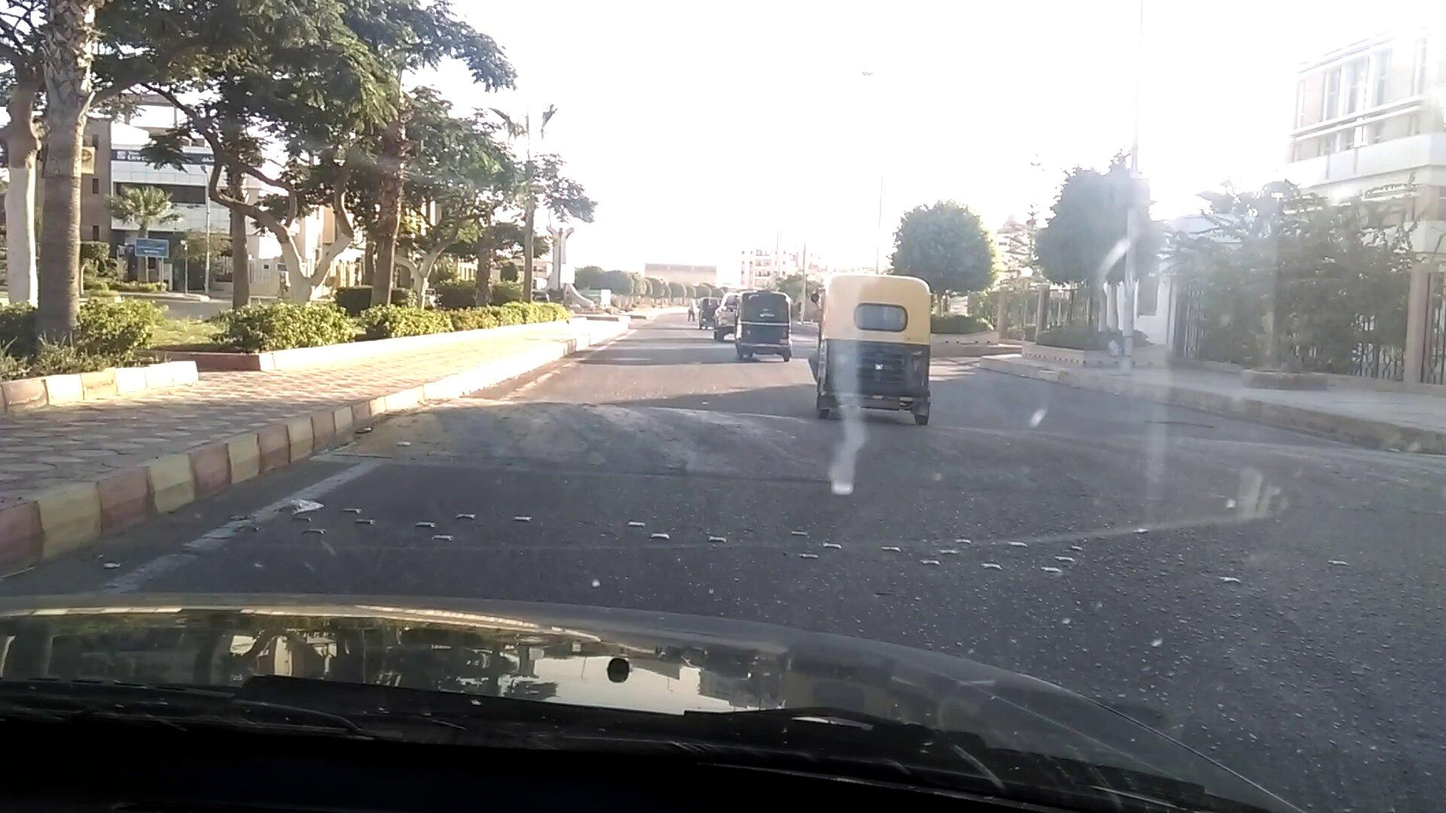Bump: (334, 387, 1445, 521)
